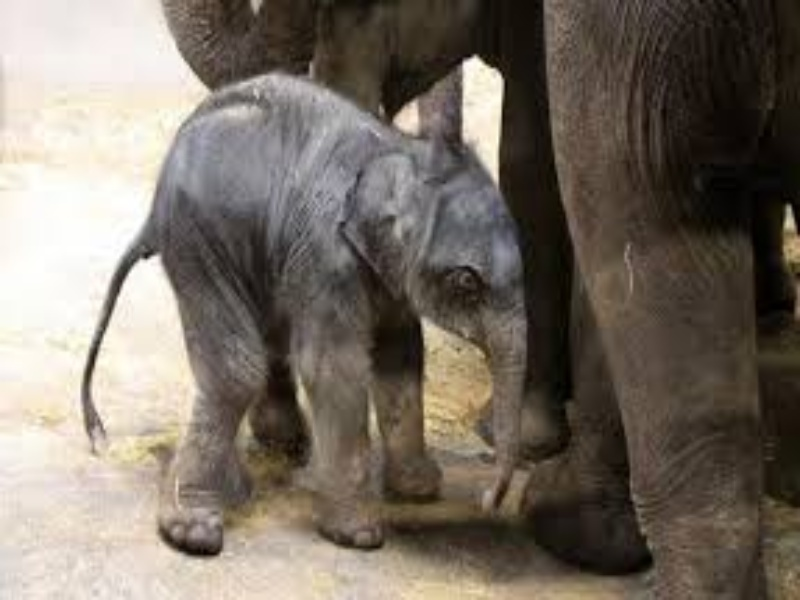elephant: (77, 78, 537, 542)
